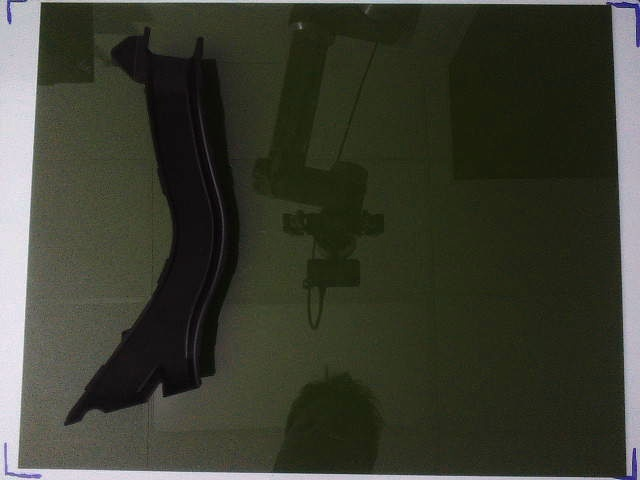887_A-Under: (67, 28, 228, 424)
